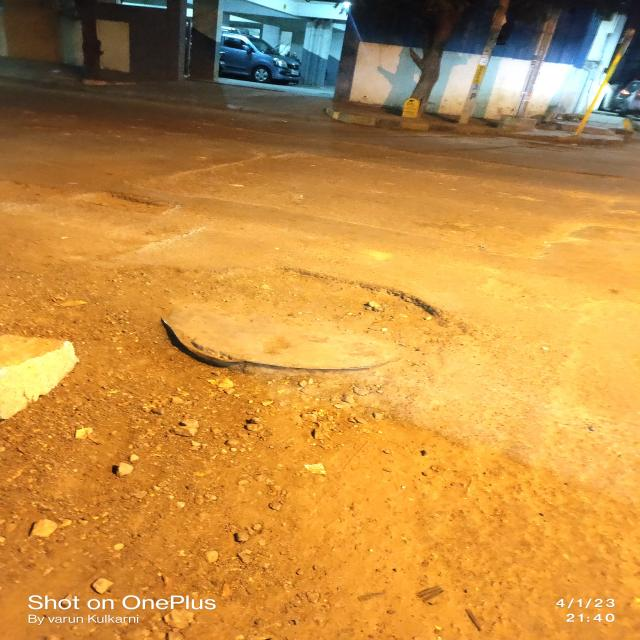manhole: (139, 262, 461, 384)
